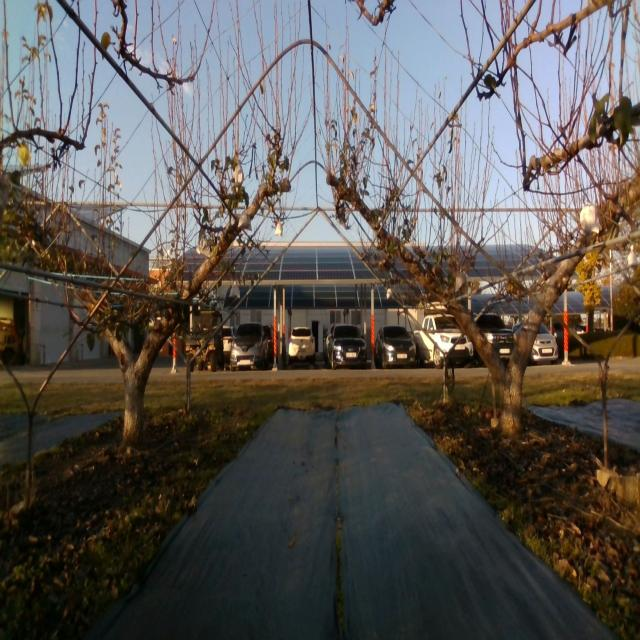pearbags: (580, 203, 602, 234), (199, 235, 212, 258), (238, 211, 252, 232), (234, 163, 244, 187), (456, 273, 468, 293)
